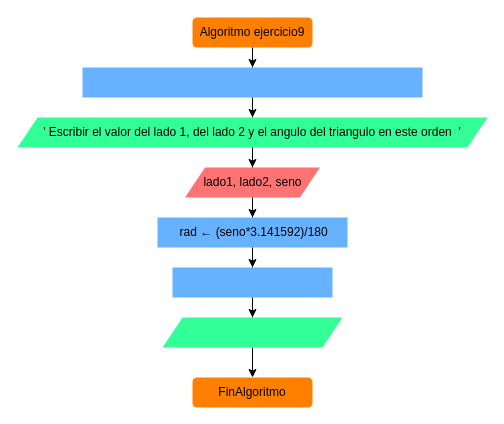
Image size: 504x424. Some labels were removed from this diagram. Here are the shapes that lost their labels. From the top down, the centre of each, then its label:
[252,82]: Definir lado1, lado2, seno, rad, a como real
[252,282]: a←(lado1*lado2*sen(rad))/2
[252,332]: ' El area del triangulo es ', a
